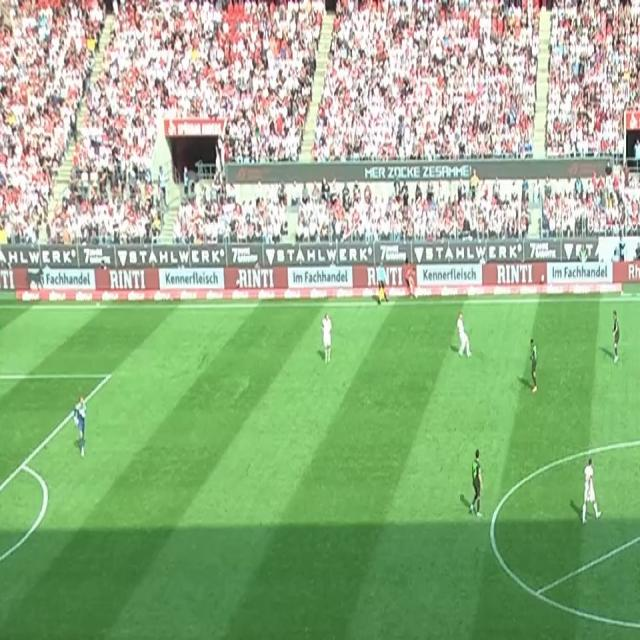ball: (466, 348, 473, 359)
